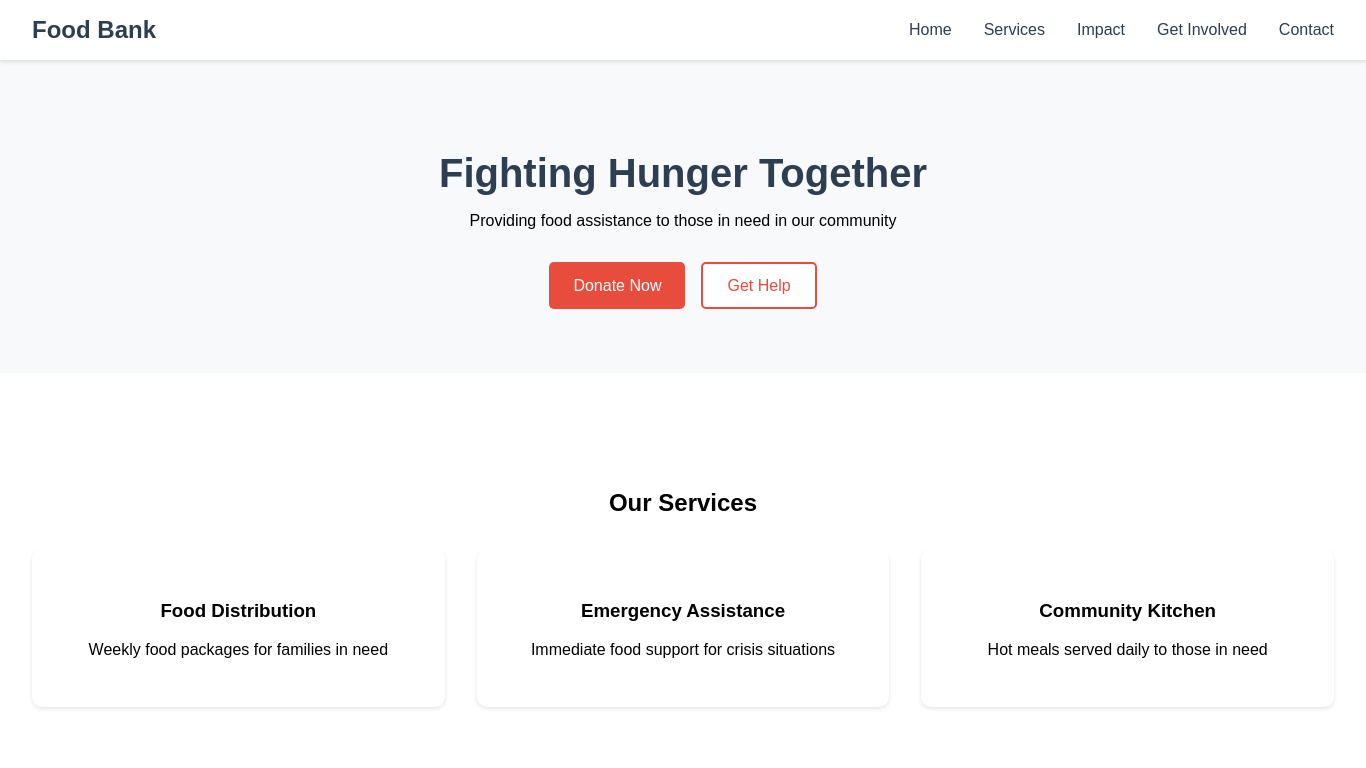
Scenario: Escape closes the help modal
Step 1. Click the button "Get Help" → [759, 286], box [702,262,817,309]
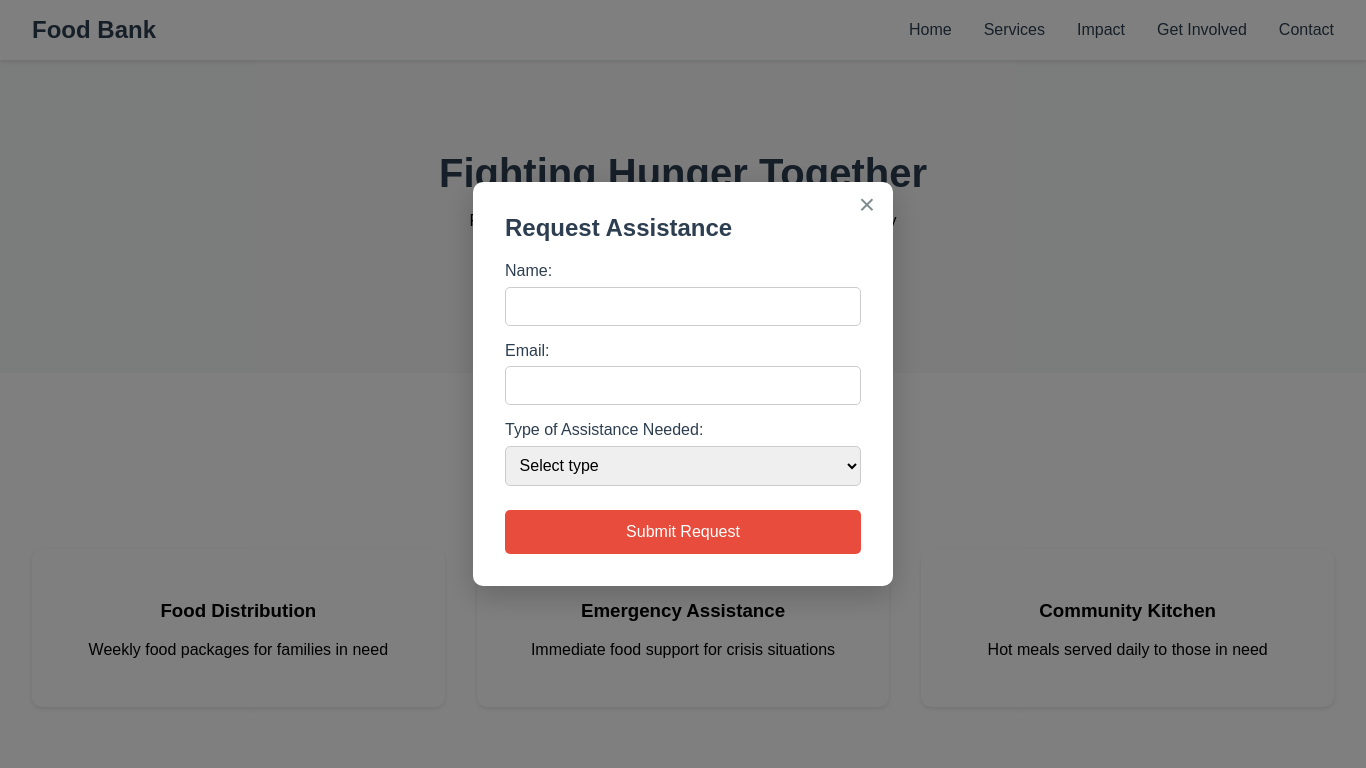
Now the dialog "Request Assistance" is shown, box [473,182,893,586]
Step 2. Press Esc
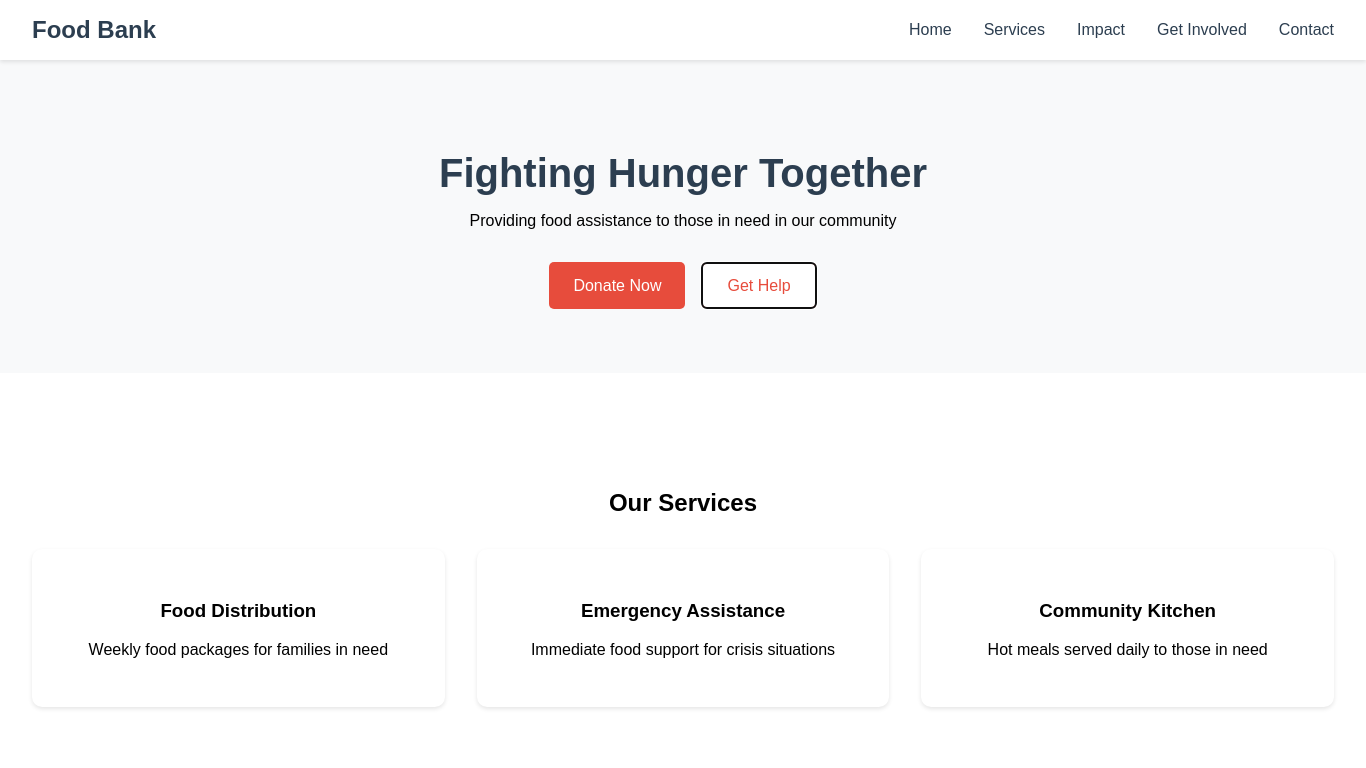
Now the dialog is gone
